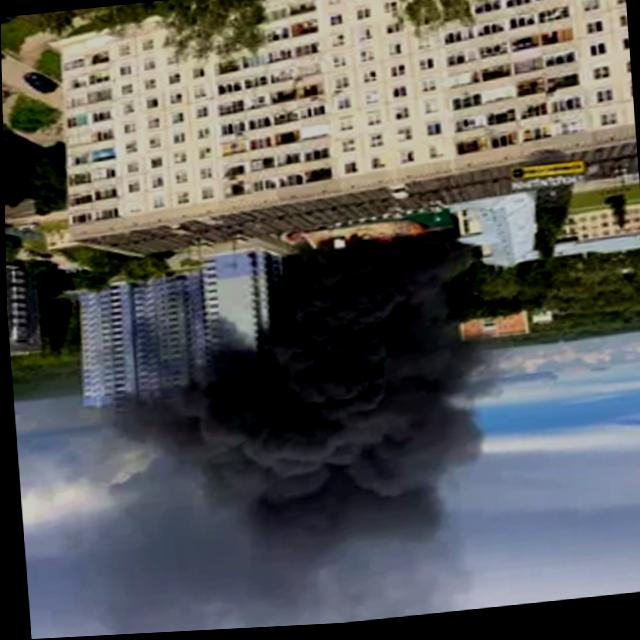no_helmet: (104, 232, 493, 571)
